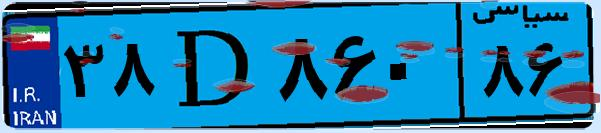0: (385, 28, 445, 110)
3: (57, 26, 110, 100)
6: (330, 28, 385, 110), (525, 38, 570, 115)
8: (270, 28, 330, 110), (475, 38, 525, 113), (110, 28, 158, 98)
D: (158, 12, 270, 120)
